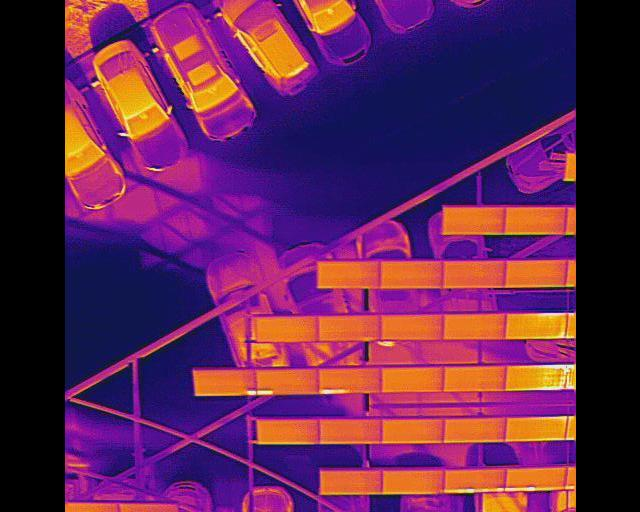No-Anomaly: (503, 205, 564, 236), (443, 205, 502, 236), (379, 260, 442, 289), (443, 260, 506, 289), (317, 260, 379, 289), (254, 316, 317, 343), (506, 260, 566, 288), (256, 419, 318, 446), (317, 316, 381, 342), (319, 469, 382, 495), (319, 420, 382, 446), (380, 368, 443, 394), (380, 315, 442, 341), (506, 417, 567, 442), (442, 316, 504, 340), (442, 369, 504, 393), (382, 471, 443, 495), (381, 420, 442, 444), (443, 420, 505, 442)
Unclassified: (317, 369, 381, 396), (193, 369, 256, 395), (504, 312, 566, 338), (256, 369, 318, 395), (505, 467, 567, 492), (504, 366, 568, 390), (444, 470, 505, 493)
